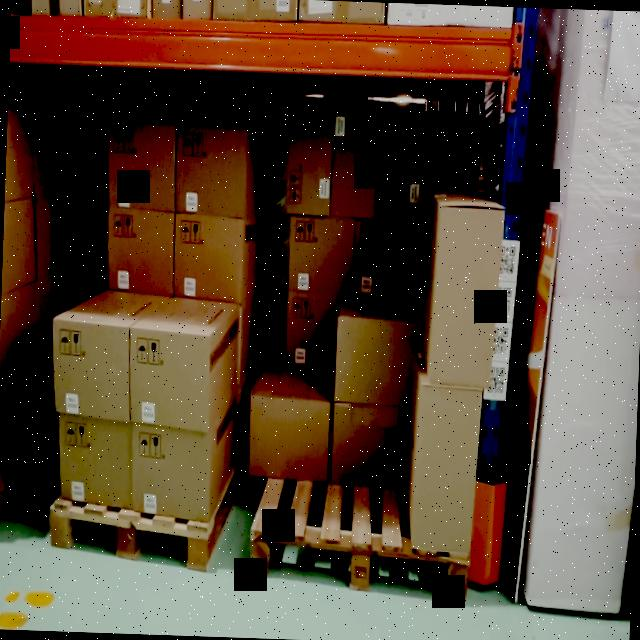box: (430, 203, 504, 389), (416, 387, 474, 555), (128, 328, 210, 426), (336, 318, 412, 404), (55, 324, 128, 412), (248, 398, 328, 478), (60, 416, 130, 504), (132, 432, 209, 512), (331, 405, 406, 487), (176, 128, 244, 214), (108, 121, 176, 206), (287, 97, 332, 213), (376, 101, 421, 217), (109, 210, 174, 290), (352, 220, 418, 298), (332, 102, 378, 213), (176, 219, 242, 295), (291, 219, 353, 291)
